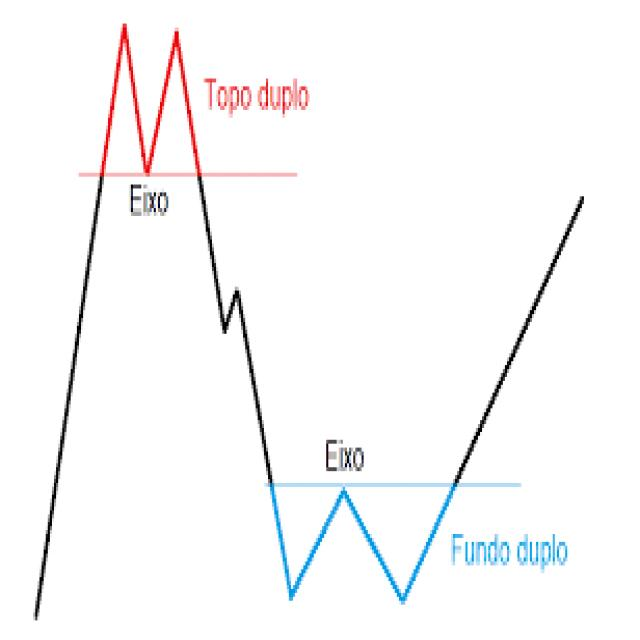fundo_duplo: (244, 426, 489, 624)
topo_duplo: (82, 9, 234, 218)
